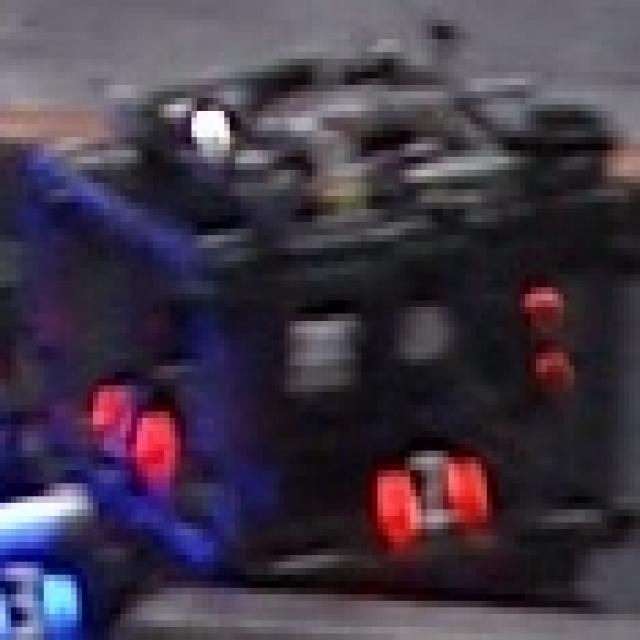R2: (68, 372, 189, 483), (355, 441, 487, 539)
